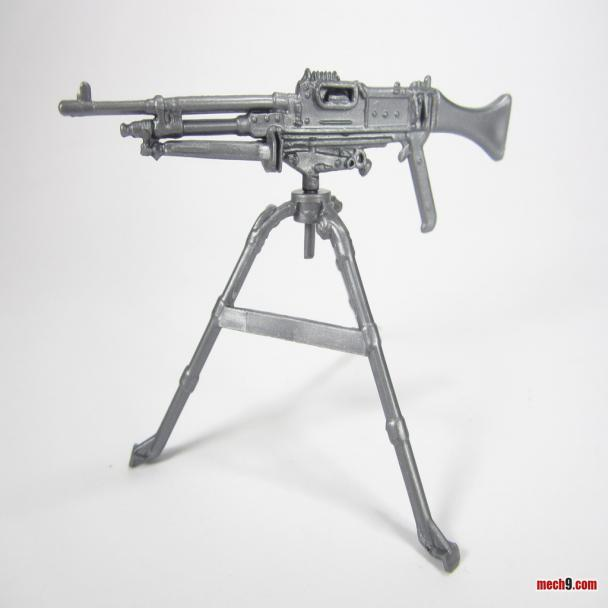Gun: (47, 54, 524, 230)
